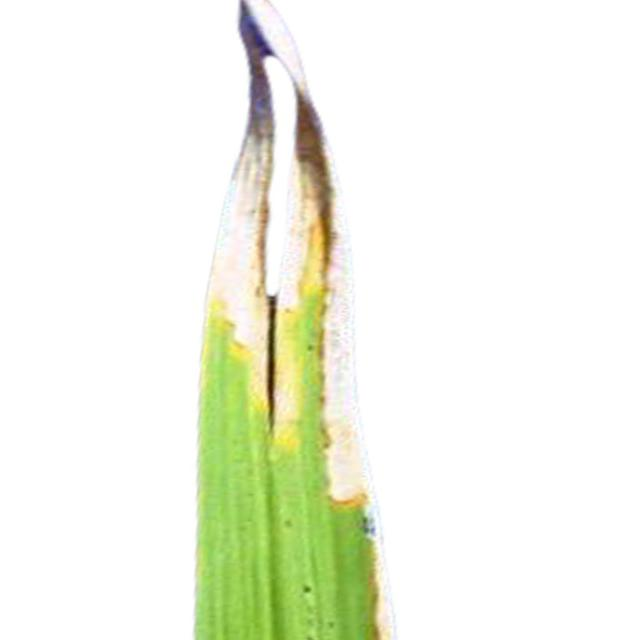Leaf scald: (118, 13, 439, 640)
